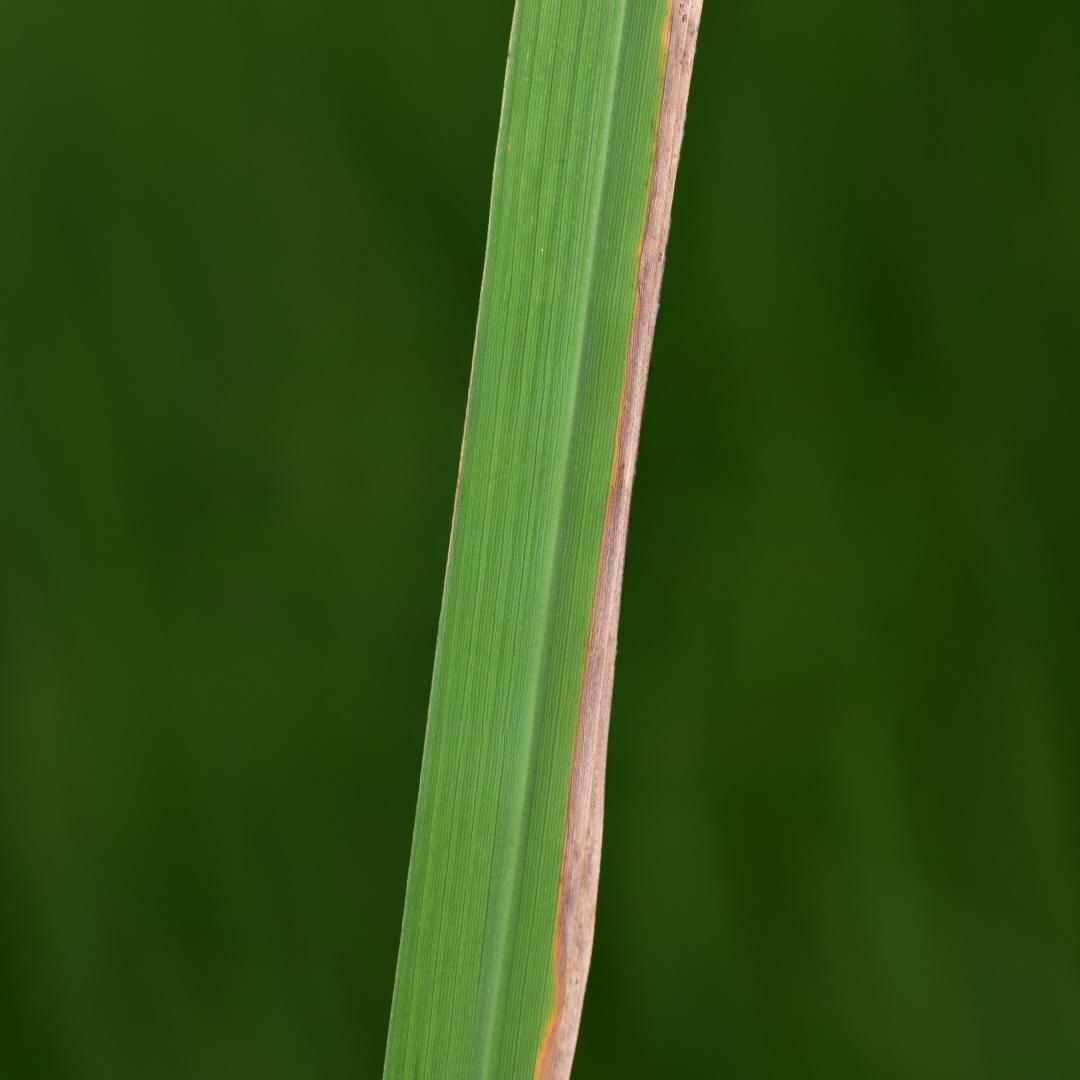BLB: (533, 0, 702, 1078)
LEAF: (383, 0, 703, 1079)
